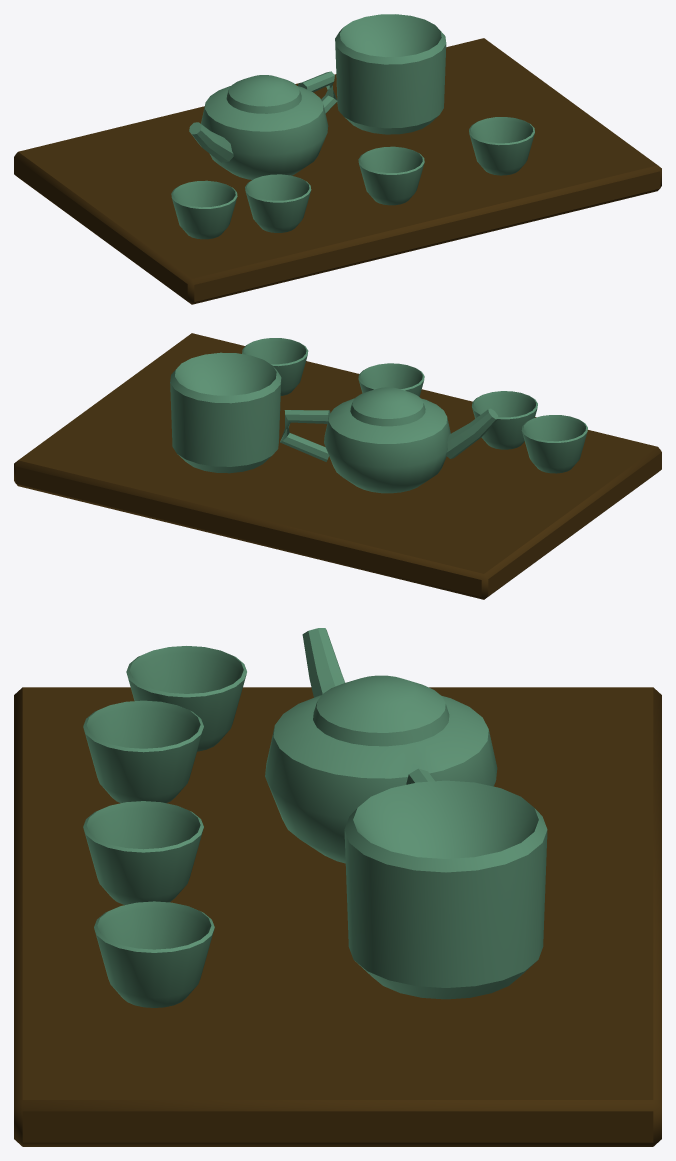
File: hz-tea-set-celadon.glb
3 views of the same model, one above another, from view 1: azimuth 30°, elevation 25°; view 2: azimuth 150°, elevation 25°; view 3: azimuth 270°, elevation 25° (orthographic). The views are drawn at different scales.
Visible parts, largest first — view 1: tray__bamboo, ceramics__ceramic; view 2: tray__bamboo, ceramics__ceramic; view 3: tray__bamboo, ceramics__ceramic.
Part boxes in pixels (x1,y1,x2,y2): tray__bamboo: (14,38,661,304); ceramics__ceramic: (171,14,534,239); tray__bamboo: (14,333,661,599); ceramics__ceramic: (170,338,587,493); tray__bamboo: (14,687,661,1146); ceramics__ceramic: (83,628,547,1007).
Size of the model in its own units: 0.46 by 0.102 by 0.3.
